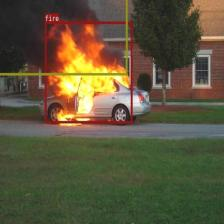fire: (45, 21, 132, 123)
smoke: (0, 0, 127, 75)
